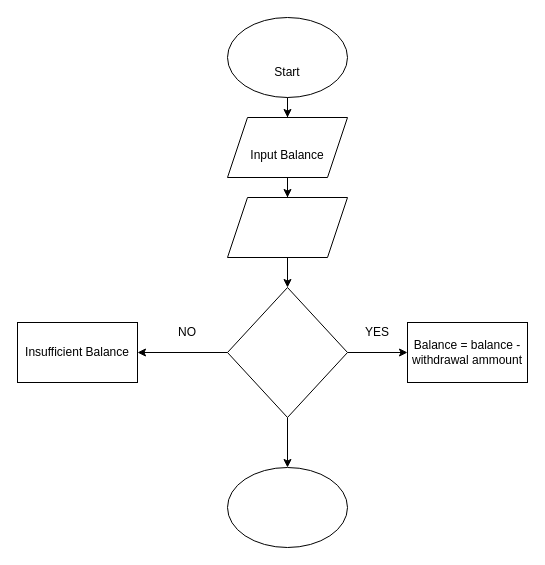
The diagram is 545 pixels wide and 565 high, and some of its shapes have lost their labels. Each missing label, with the box of its shape:
Withdrawal ammount: (226, 196, 348, 258)
withdrawal ammount<balance: (226, 286, 348, 418)
